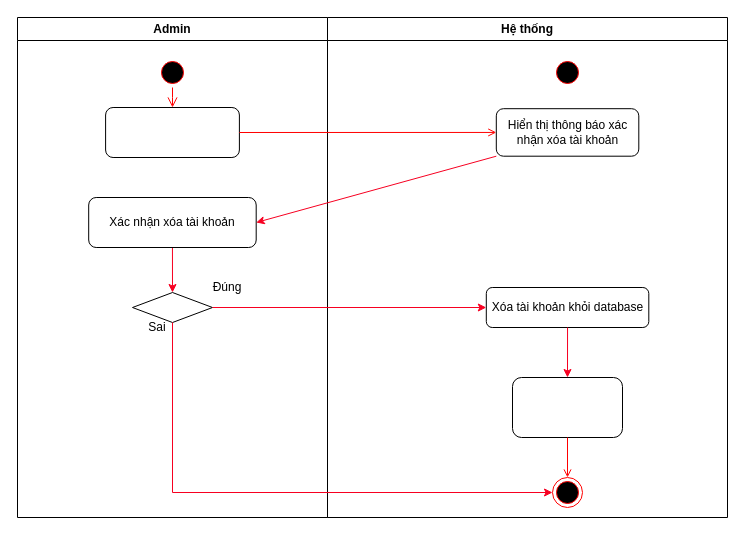
This 745x535 diagram has some shape labels left out. The shapes that lost their labels are listed below. From the top down, each one's centre as x and y in pixels, then its label:
At pixel 172 132: "Chọn tài khoản cần xóa".
At pixel 567 407: "Hiển thị thông báo thành công".
